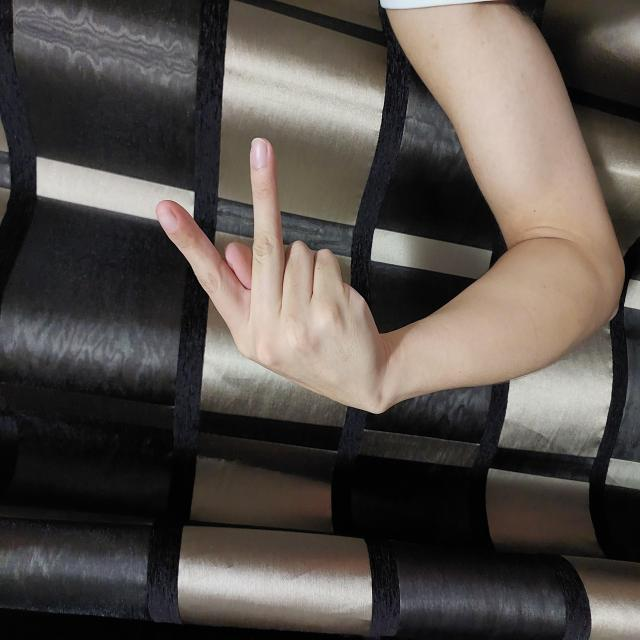K: (224, 154, 506, 389)
